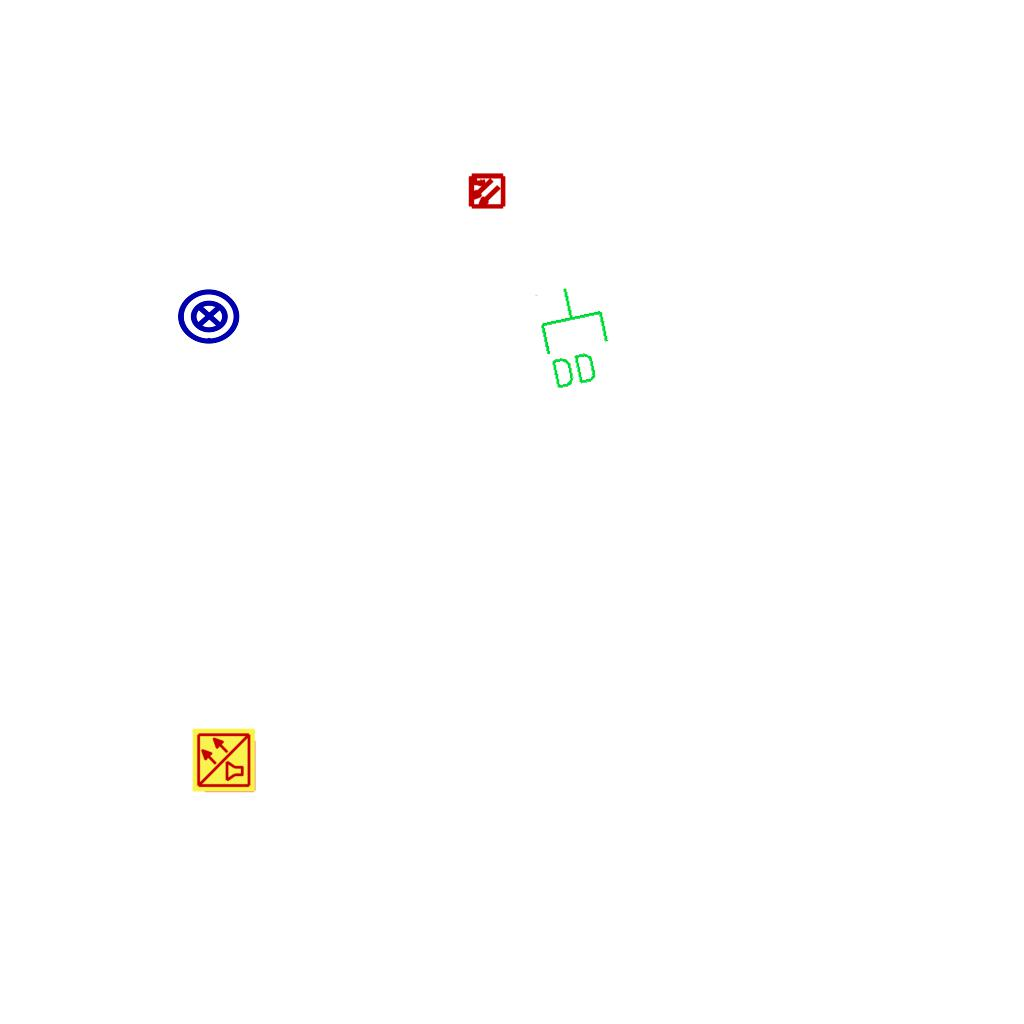Datenanschluss_zweifach: (530, 278, 619, 395)
OKW_Multisensormelder_(Kombination_optischer_Rauch-Kahlenmonoxid_Waerme-Melder): (191, 727, 257, 793)
OT_Multisensormelder_(Kombination_RMO_WMD): (458, 163, 514, 219)
Taster_beleuchtet: (176, 283, 242, 349)
